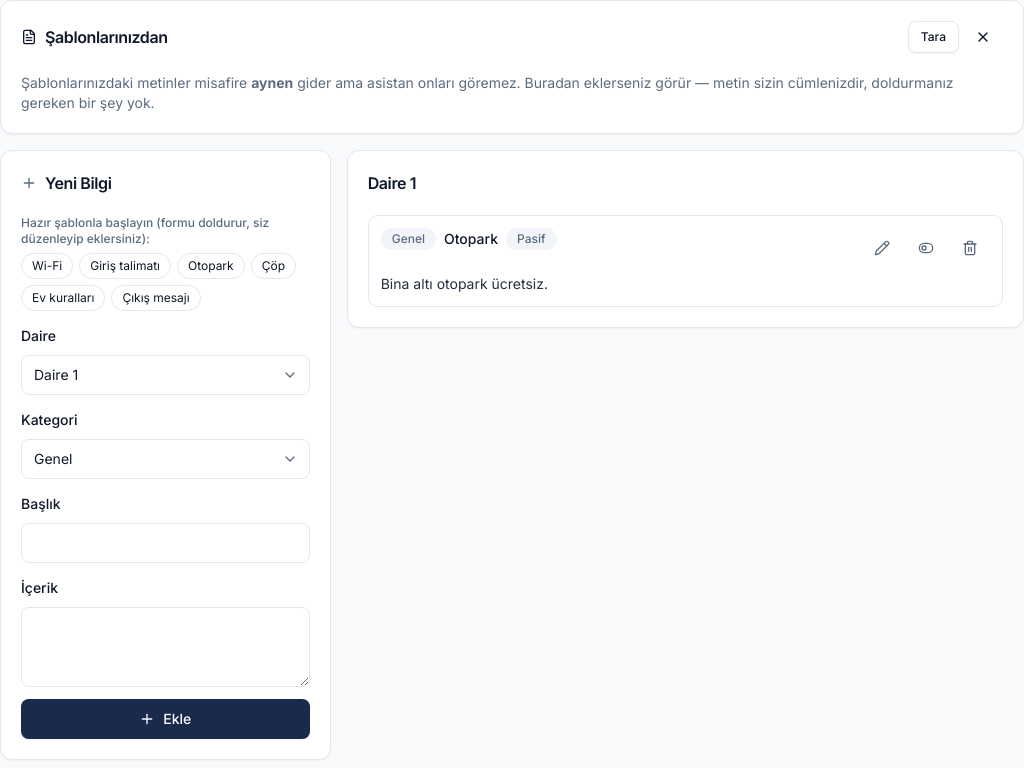
Scenario: KbManager — aktif/pasif geçişi geri bildirimi › rota hata dönerse BAŞARI toast'ı YOK; hata listede görünür
Click the button named "Aktifleştir" at (926, 248), box [906,228,946,268]
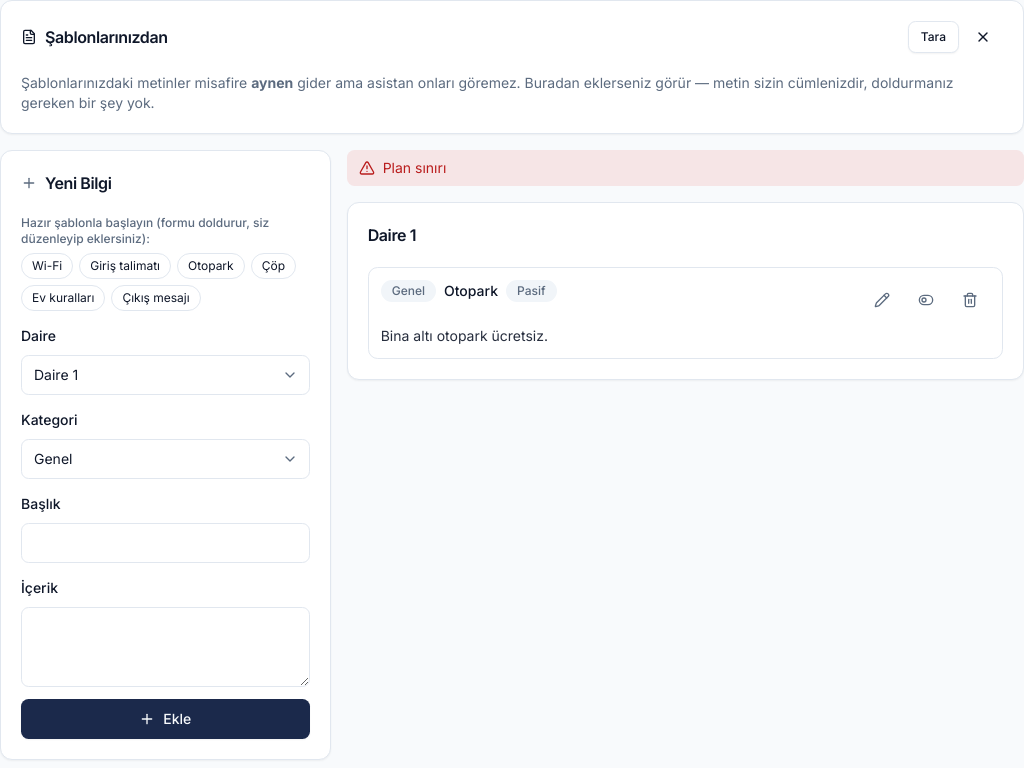
Now the text "Plan sınırı" is shown, box [383,158,446,178]
